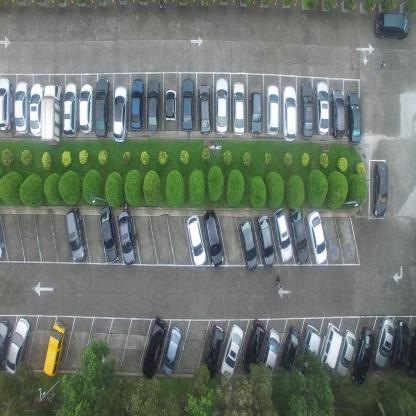car: (142, 316, 167, 381), (295, 322, 321, 383), (5, 316, 31, 375), (318, 320, 343, 380), (42, 319, 67, 379), (219, 322, 244, 381), (351, 326, 375, 387), (242, 317, 266, 376), (201, 324, 225, 382), (202, 208, 225, 268), (41, 82, 62, 147), (259, 327, 281, 385), (98, 204, 119, 264), (289, 203, 309, 265), (116, 208, 137, 266), (278, 324, 300, 379), (65, 207, 86, 262), (373, 316, 395, 368), (272, 207, 292, 263), (374, 10, 410, 41), (307, 209, 327, 264), (186, 214, 206, 269), (371, 159, 389, 219), (335, 328, 357, 377), (162, 324, 182, 376), (389, 320, 410, 369), (257, 212, 275, 269), (239, 219, 258, 271), (112, 84, 129, 142), (13, 79, 30, 135), (95, 75, 110, 138), (314, 80, 330, 136), (346, 90, 362, 145), (29, 81, 45, 136), (299, 81, 314, 139), (63, 81, 78, 137), (146, 77, 161, 132), (78, 83, 94, 134), (282, 84, 296, 140), (130, 76, 144, 132), (330, 88, 345, 140), (215, 77, 228, 136), (180, 78, 194, 132), (0, 76, 13, 133), (198, 83, 212, 135), (0, 317, 13, 373), (232, 81, 245, 136), (266, 84, 279, 137), (249, 90, 262, 135), (406, 329, 416, 377), (164, 88, 176, 122)
